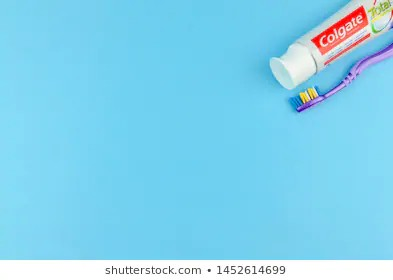colgate-total-150gm: (270, 1, 393, 91)
toothbrush: (285, 51, 384, 113)
